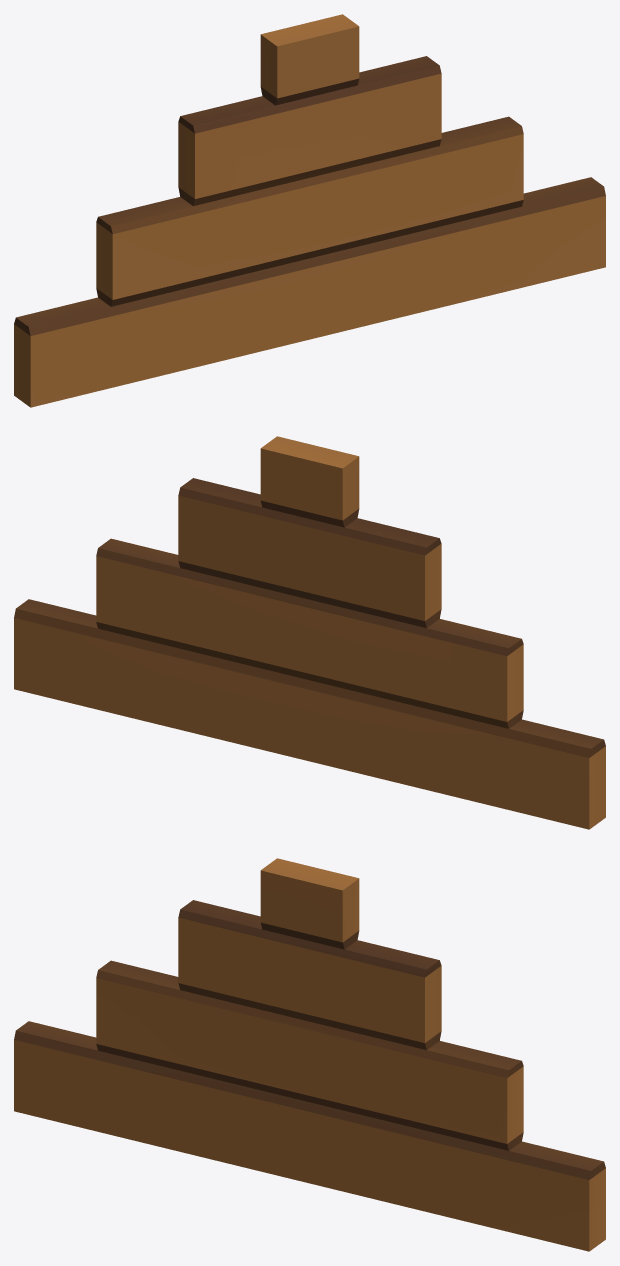
Rendered from Wall_Wood_Gable_01.fbx.
3 views of the same model, one above another, from view 1: azimuth 30°, elevation 25°; view 2: azimuth 150°, elevation 25°; view 3: azimuth 330°, elevation 25° (orthographic).
Visible parts, largest first — view 1: Wall_Wood_Gable_01; view 2: Wall_Wood_Gable_01; view 3: Wall_Wood_Gable_01.
Part boxes in pixels (x1,y1,x2,y2): Wall_Wood_Gable_01: (14, 14, 605, 407); Wall_Wood_Gable_01: (14, 436, 605, 829); Wall_Wood_Gable_01: (14, 858, 605, 1251).
Size of the model in its own units: 4 by 2 by 0.2.
